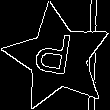P_S: (36, 30, 80, 86)
